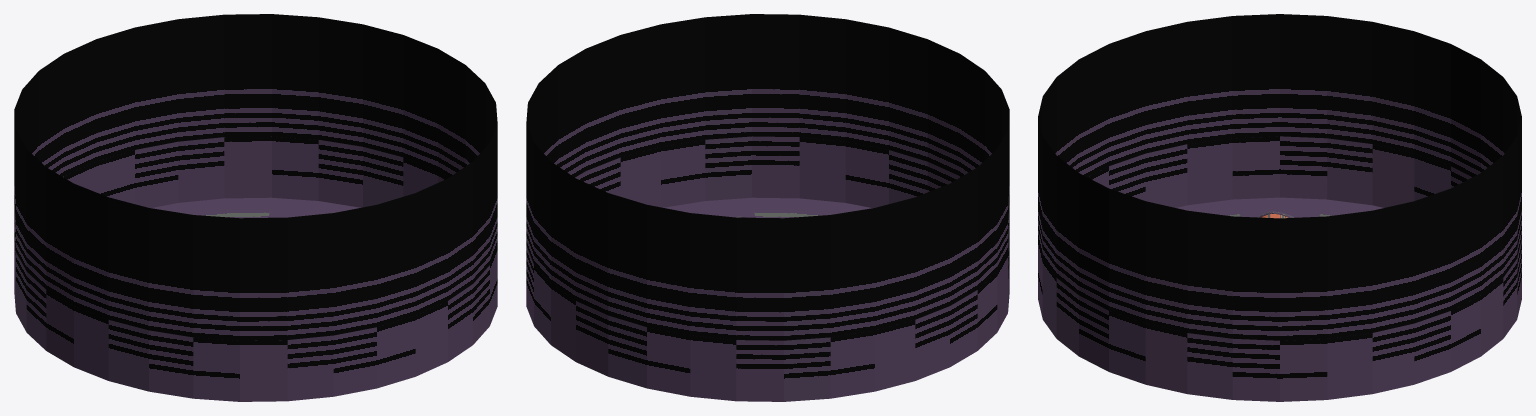
Rendered from polyobjects.glb.
The picture shows the model from 3 angles, left to right: view 1: azimuth 30°, elevation 25°; view 2: azimuth 150°, elevation 25°; view 3: azimuth 270°, elevation 25°; orthographic projection.
Parts seen in each view (by area): view 1: Cylinder.001; view 2: Cylinder.001; view 3: Cylinder.001.
Part boxes in pixels (x1=…): Cylinder.001: x1=14, y1=14, x2=497, y2=401; Cylinder.001: x1=526, y1=14, x2=1009, y2=401; Cylinder.001: x1=1038, y1=14, x2=1521, y2=401.
Bounding box in the file's own units: 18.07 × 7.57 × 18.07.
1 material, 1 textured.
